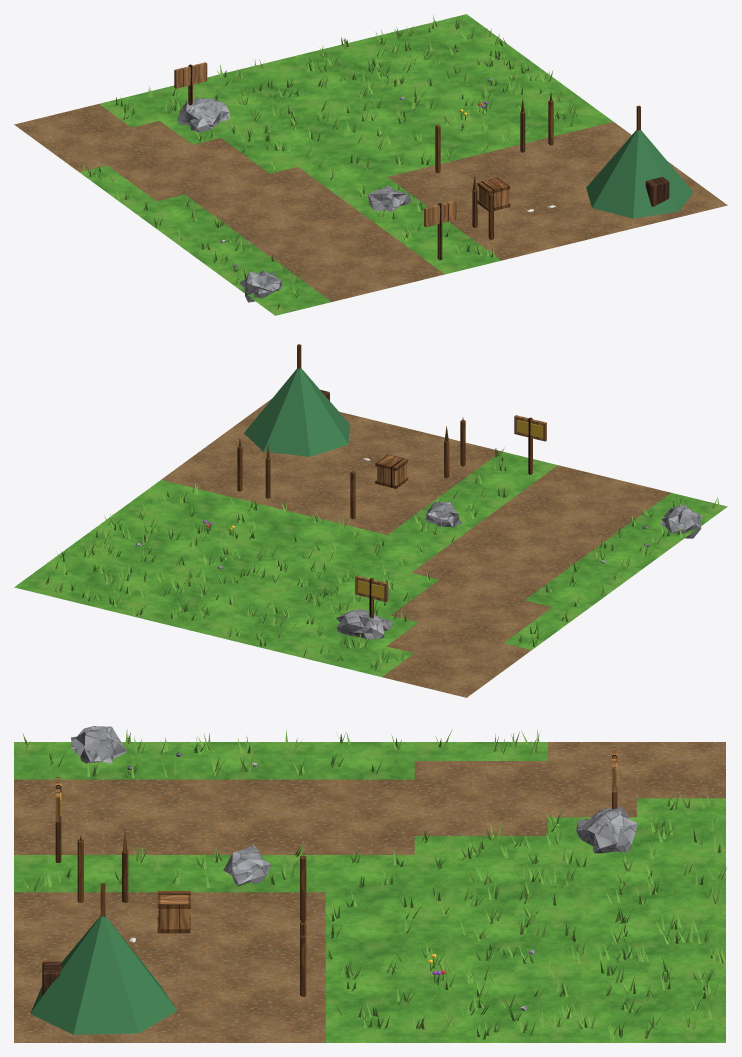
Rendered from chunk_6_7.glb.
3 views of the same model, one above another, from view 1: azimuth 30°, elevation 25°; view 2: azimuth 150°, elevation 25°; view 3: azimuth 270°, elevation 25° (orthographic). The views are drawn at different scales.
Parts seen in each view (by area): view 1: chunk_6_7; view 2: chunk_6_7; view 3: chunk_6_7.
Part boxes in pixels (x1,y1,x2,y2): chunk_6_7: (14, 14, 727, 315); chunk_6_7: (14, 344, 727, 697); chunk_6_7: (14, 726, 726, 1042).
Size of the model in its own units: 16.06 by 3.5 by 16.04.
Materials: 16 (9 with a texture image).
